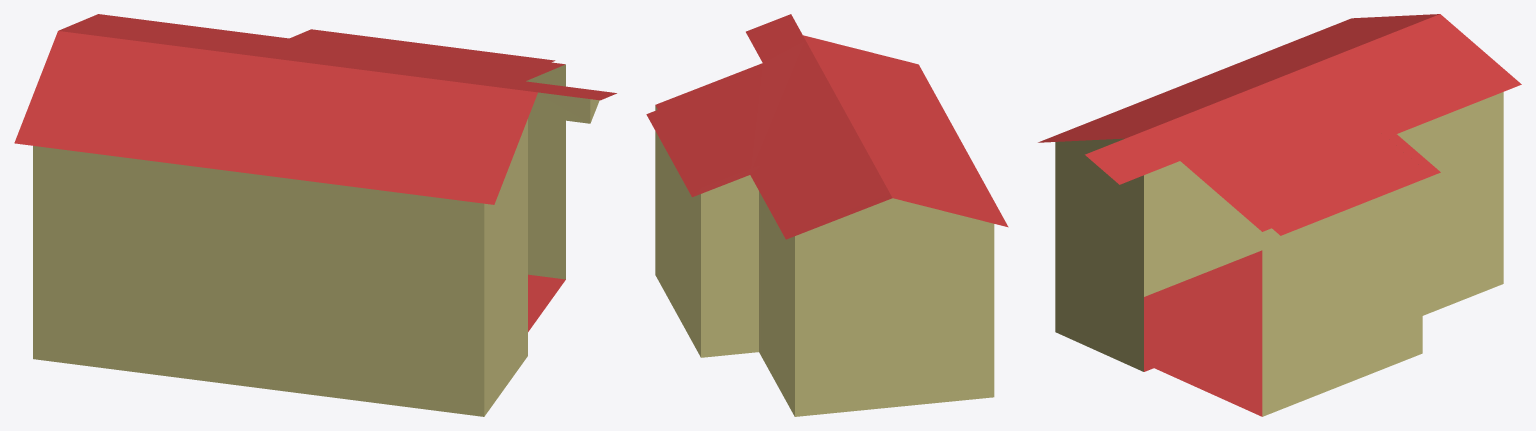
3 renders of one model, left to right at view 1: azimuth 30°, elevation 25°; view 2: azimuth 150°, elevation 25°; view 3: azimuth 270°, elevation 25°, orthographic. The views are drawn at different scales.
Bounding box in the file's own units: 19.12 × 18.67 × 9.91.
